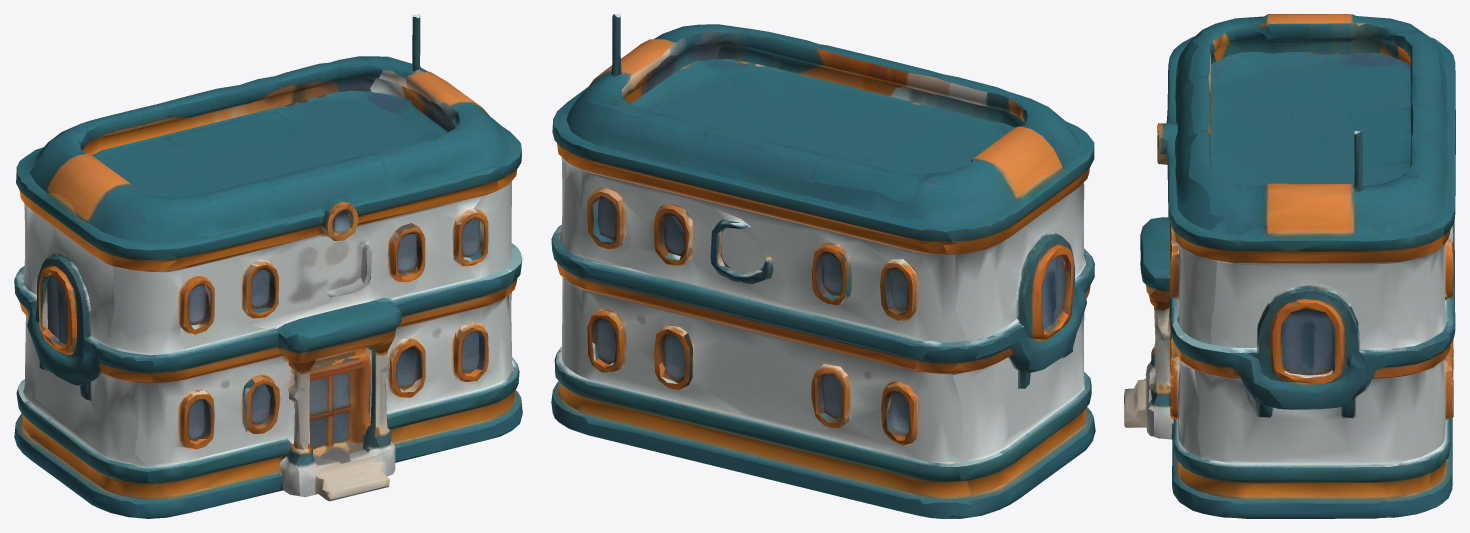
File: gov_office.glb
3 renders of one model, left to right at view 1: azimuth 30°, elevation 25°; view 2: azimuth 150°, elevation 25°; view 3: azimuth 270°, elevation 25°, orthographic. The views are drawn at different scales.
Parts seen in each view (by area): view 1: gov_office; view 2: gov_office; view 3: gov_office.
Part boxes in pixels (box(x1,y1,x2,y2)): gov_office: box(14, 14, 522, 518); gov_office: box(551, 14, 1095, 518); gov_office: box(1124, 14, 1455, 518).
Bounding box in the file's own units: 1 × 0.7766 × 0.6357.
Materials: 1 (1 with a texture image).
